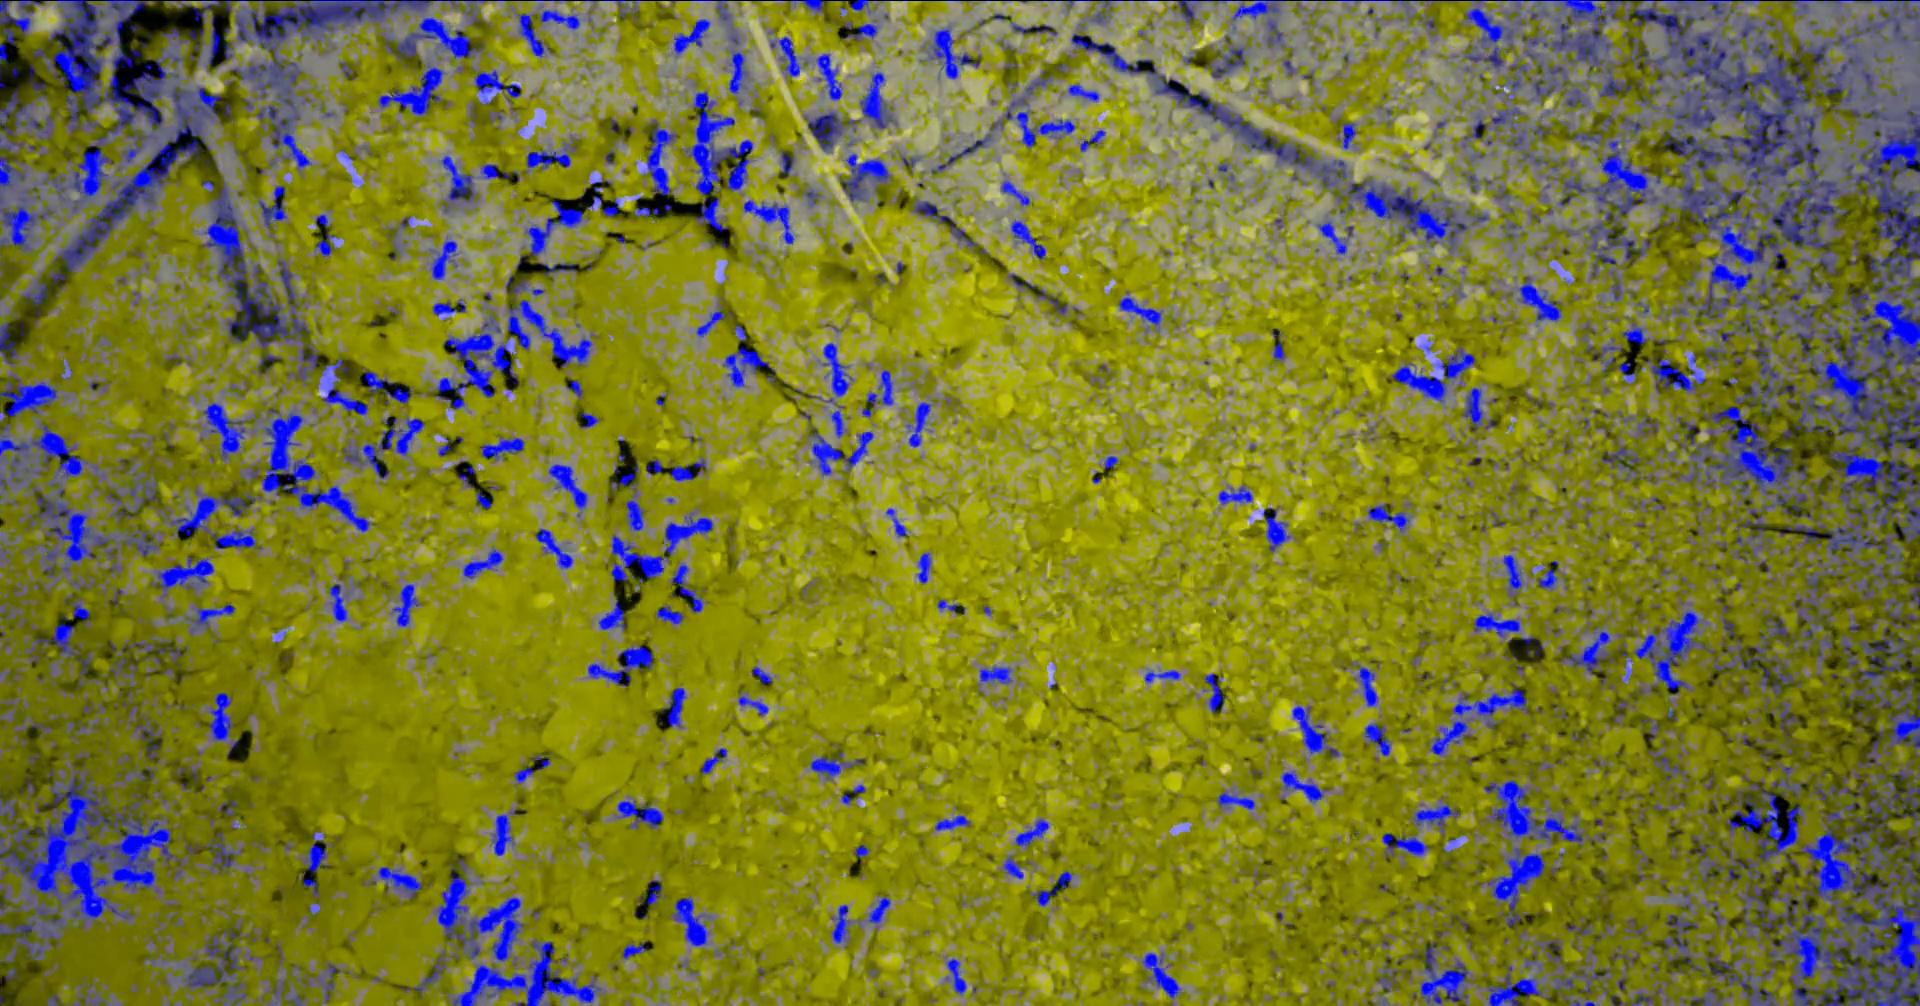ant: (1793, 567, 1837, 661), (931, 119, 1002, 174), (1451, 682, 1528, 730), (524, 199, 583, 257), (121, 685, 161, 762), (808, 427, 872, 475), (913, 198, 977, 246), (202, 401, 253, 460), (108, 639, 185, 677), (1657, 915, 1705, 976), (0, 0, 44, 64), (1559, 626, 1614, 674), (587, 645, 651, 686), (1644, 351, 1705, 392), (930, 28, 980, 77), (28, 615, 80, 662), (1291, 705, 1338, 757), (610, 460, 644, 530), (112, 471, 159, 522), (841, 152, 890, 199), (803, 111, 858, 151), (1486, 964, 1542, 1005), (184, 831, 237, 873), (646, 119, 676, 196), (1736, 274, 1782, 323), (723, 345, 775, 387), (743, 199, 792, 243), (1883, 572, 1919, 627), (549, 464, 587, 516), (400, 950, 444, 995), (1517, 276, 1561, 321), (441, 155, 475, 212), (672, 895, 709, 946), (858, 72, 891, 128), (1142, 951, 1180, 998), (524, 138, 577, 171), (363, 368, 411, 404), (822, 342, 852, 396), (670, 564, 703, 612), (1117, 291, 1162, 326), (1564, 114, 1614, 146), (474, 69, 521, 102), (809, 751, 863, 779), (517, 13, 551, 57), (321, 381, 367, 414), (377, 866, 422, 899), (1585, 338, 1623, 376), (535, 528, 571, 568), (184, 603, 234, 633), (1010, 218, 1045, 259), (1600, 445, 1641, 480), (1430, 720, 1472, 754), (1280, 771, 1327, 801), (1032, 870, 1072, 906), (1552, 974, 1595, 1005), (19, 277, 47, 324), (616, 800, 663, 828), (673, 18, 709, 55), (1811, 768, 1849, 803), (1647, 749, 1686, 782), (1775, 701, 1799, 754), (1203, 47, 1244, 77), (1413, 804, 1459, 832), (257, 185, 286, 229), (1622, 323, 1665, 352), (391, 583, 420, 626), (1768, 763, 1806, 796), (587, 177, 618, 216), (770, 36, 800, 76), (462, 547, 503, 578), (1368, 503, 1411, 531), (208, 691, 232, 741), (815, 53, 841, 100), (1531, 65, 1567, 98), (161, 27, 203, 55), (905, 401, 931, 447), (1382, 832, 1429, 856), (207, 11, 229, 64), (1262, 509, 1289, 551), (1473, 612, 1519, 636), (1573, 967, 1613, 995), (695, 307, 731, 337), (430, 238, 456, 279), (1609, 984, 1661, 1005), (119, 528, 159, 555), (1317, 220, 1347, 254), (1727, 17, 1763, 46), (1230, 0, 1281, 20), (480, 436, 524, 459), (305, 831, 328, 873), (662, 687, 686, 727), (866, 370, 893, 405), (75, 976, 107, 1005), (1462, 114, 1490, 147), (1363, 721, 1390, 754), (1203, 673, 1225, 713), (1015, 819, 1048, 846), (1462, 387, 1482, 431), (491, 814, 513, 855), (1677, 986, 1723, 1005), (538, 9, 579, 29), (320, 962, 340, 1002), (63, 594, 90, 625), (737, 690, 768, 715), (690, 0, 729, 20), (1357, 664, 1377, 706), (75, 652, 99, 685), (598, 600, 625, 629), (728, 50, 745, 93), (670, 459, 706, 480), (1377, 956, 1398, 992), (841, 20, 877, 41), (946, 958, 966, 995), (700, 747, 728, 774), (1035, 290, 1065, 314), (0, 320, 17, 365), (328, 583, 347, 621), (830, 904, 850, 942), (1217, 484, 1252, 504), (1503, 554, 1521, 594), (1001, 180, 1030, 205), (1610, 945, 1639, 969), (1491, 107, 1521, 130), (297, 871, 319, 903), (28, 64, 47, 99), (1217, 791, 1255, 809), (637, 879, 664, 904), (1092, 0, 1123, 22), (321, 357, 348, 381), (1537, 560, 1558, 589), (1638, 86, 1670, 105), (885, 508, 907, 536), (869, 895, 890, 923), (1011, 23, 1057, 36), (116, 766, 154, 781), (538, 262, 579, 276), (1067, 84, 1098, 102), (979, 666, 1011, 683), (1007, 273, 1036, 292), (463, 0, 486, 24), (257, 351, 281, 373), (1079, 130, 1105, 151), (432, 298, 465, 315), (1507, 64, 1526, 91), (1337, 121, 1356, 149), (1175, 0, 1197, 23), (215, 39, 232, 69), (655, 605, 683, 622), (314, 234, 335, 257), (1002, 855, 1023, 878), (935, 815, 969, 829), (787, 0, 828, 11), (916, 553, 931, 583), (1520, 635, 1543, 655), (270, 981, 290, 1005), (1144, 669, 1180, 682), (17, 719, 52, 732), (830, 405, 844, 437), (1266, 18, 1283, 44), (778, 149, 794, 177), (621, 941, 646, 958), (1779, 0, 1815, 11), (1641, 718, 1658, 741), (1271, 328, 1284, 359), (1520, 151, 1548, 165), (1564, 923, 1592, 937), (1566, 88, 1586, 107), (1618, 361, 1636, 382), (750, 666, 772, 683), (171, 765, 198, 779), (1613, 699, 1628, 723), (1638, 415, 1657, 434), (1625, 918, 1644, 937), (1622, 117, 1642, 135), (457, 465, 474, 486), (65, 720, 86, 737), (842, 0, 870, 13), (1709, 901, 1723, 926), (83, 697, 105, 713), (1506, 130, 1524, 149), (1769, 323, 1788, 340), (105, 547, 119, 572), (1537, 936, 1561, 950), (513, 766, 533, 782), (1610, 271, 1622, 300), (565, 379, 582, 398), (1462, 171, 1477, 192), (1500, 222, 1520, 238), (1704, 345, 1724, 361), (1850, 711, 1874, 724), (936, 600, 957, 614), (900, 156, 918, 173), (218, 799, 236, 815), (47, 268, 66, 283), (579, 412, 598, 427), (22, 775, 34, 798), (1714, 329, 1735, 343), (475, 492, 491, 508), (480, 163, 498, 178), (339, 62, 354, 79), (104, 486, 121, 502), (1545, 951, 1561, 968), (1533, 124, 1550, 138), (531, 754, 549, 768), (635, 206, 659, 216), (1722, 617, 1735, 636), (646, 459, 662, 474), (803, 191, 819, 205), (314, 213, 330, 227), (438, 437, 450, 456), (286, 993, 305, 1005), (1524, 951, 1537, 968), (44, 993, 62, 1005), (733, 325, 745, 340), (1470, 213, 1488, 224), (1103, 455, 1117, 467), (855, 843, 869, 856), (5, 967, 17, 981)
